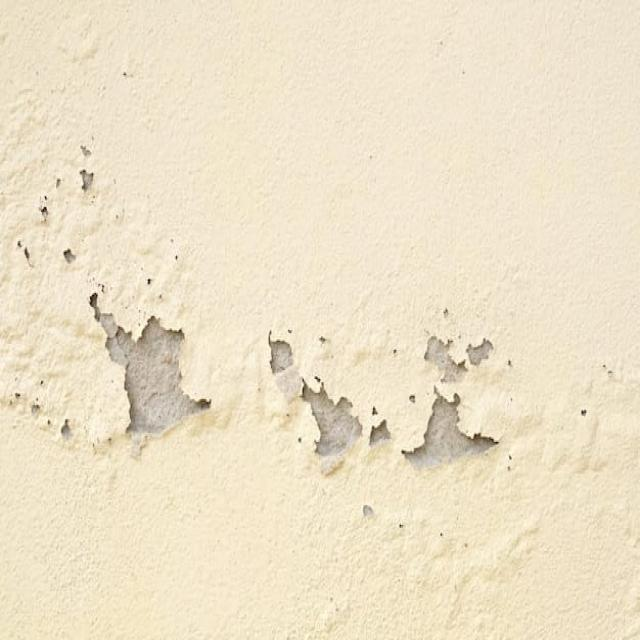peeling: (258, 327, 513, 494), (79, 291, 221, 462)
